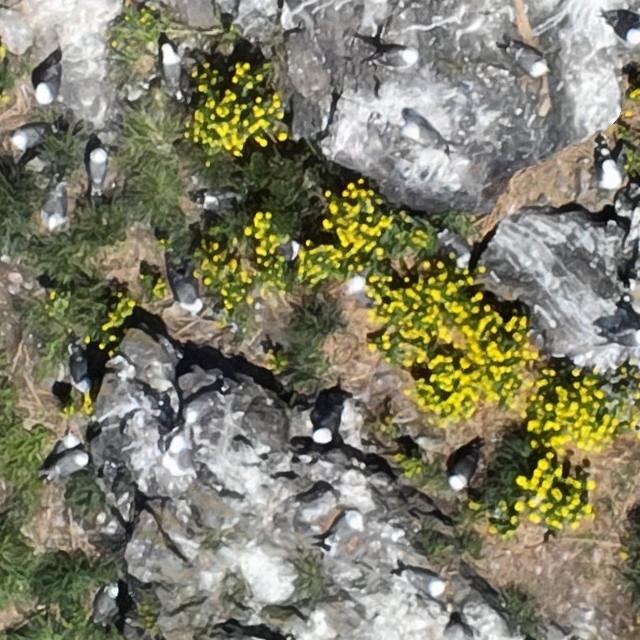umineko: (594, 129, 626, 195), (167, 260, 204, 312), (184, 389, 228, 427), (401, 117, 447, 151), (167, 432, 194, 476), (512, 48, 545, 75), (405, 572, 442, 594), (329, 514, 358, 542), (449, 456, 473, 488), (162, 47, 181, 87), (443, 236, 470, 264), (54, 451, 86, 473), (46, 190, 64, 228), (312, 412, 334, 442), (89, 148, 106, 186), (37, 66, 56, 100), (95, 586, 115, 618), (13, 126, 42, 147), (380, 50, 414, 67), (350, 277, 371, 303), (280, 238, 301, 260), (74, 357, 88, 390), (613, 329, 640, 346), (56, 435, 79, 450)
